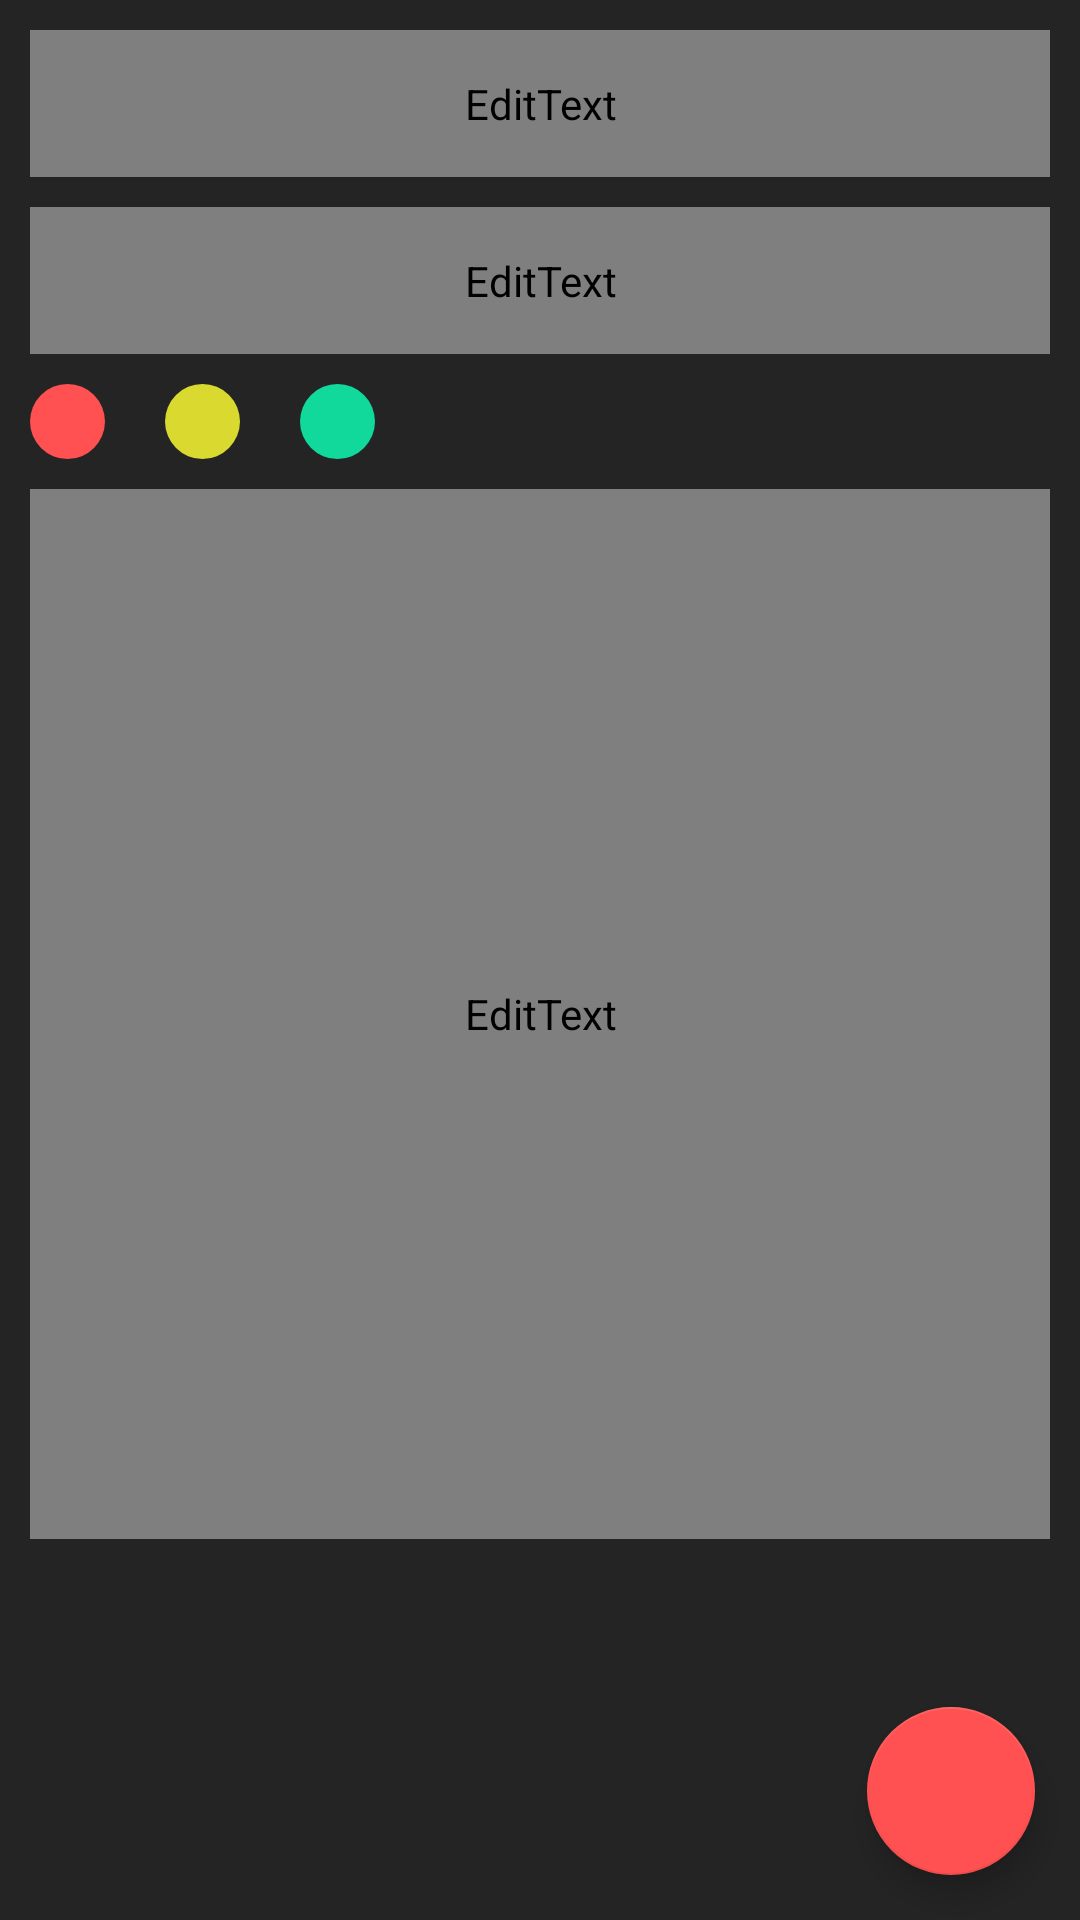

Where to tap for icons on this 1080w x 1920h app screen, as (x=x, y=y):
dot: (x=67, y=421), (x=202, y=421), (x=337, y=421)
